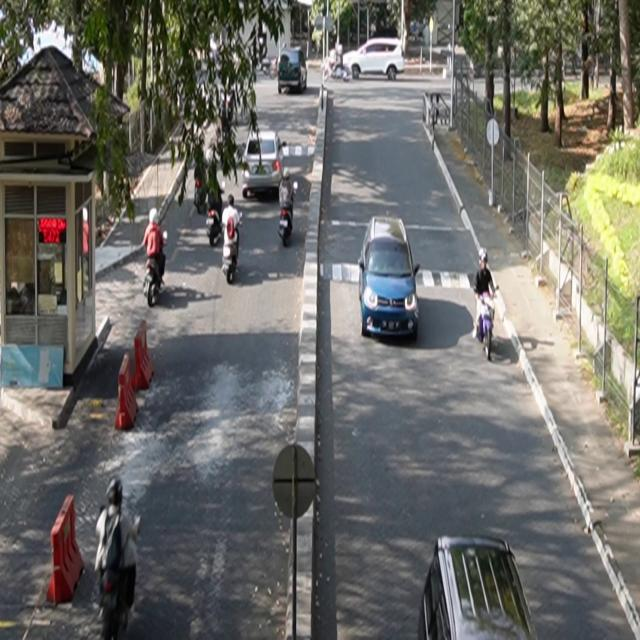car: (418, 536, 539, 640), (359, 216, 421, 341), (242, 131, 288, 199), (343, 38, 406, 82), (278, 47, 308, 95)
